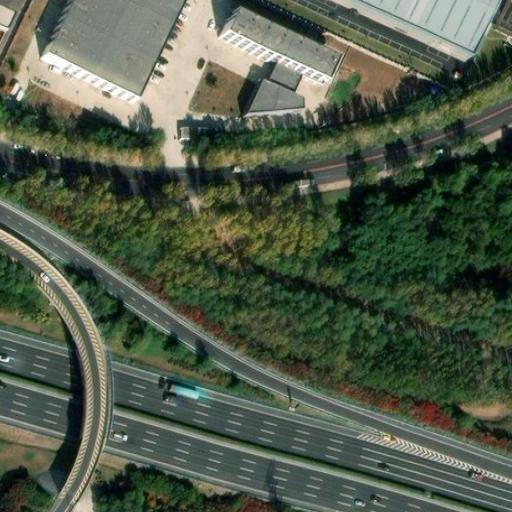building: (39, 0, 178, 101), (220, 16, 336, 87), (244, 64, 304, 111)
